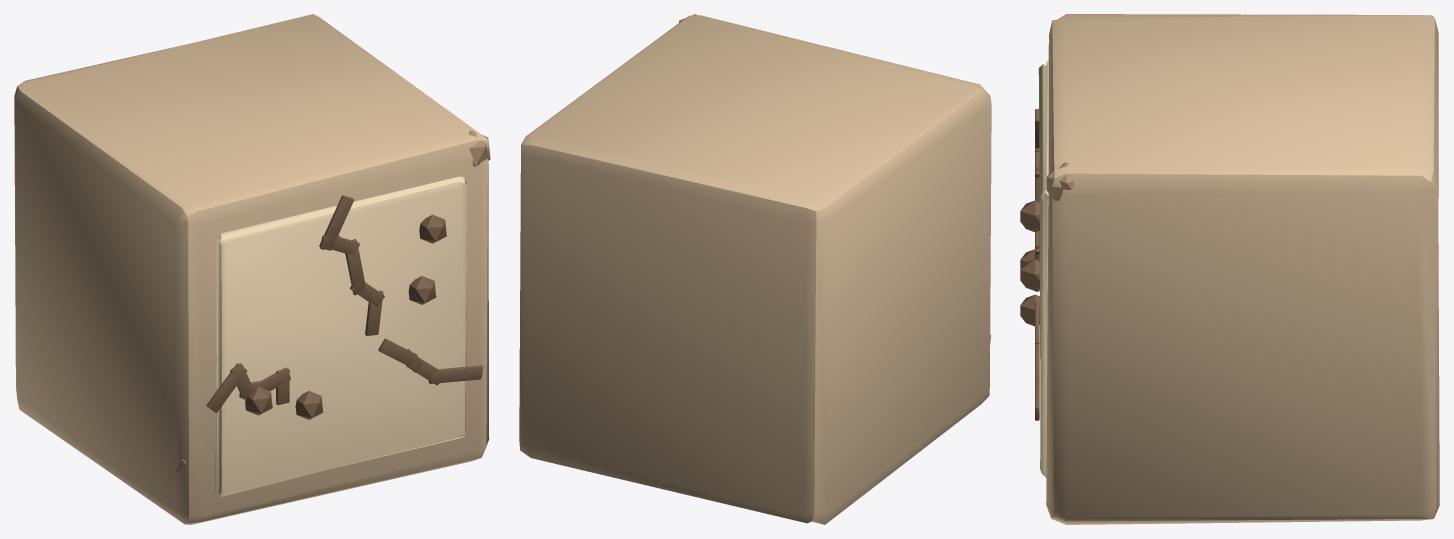
The model's file is breakable.glb.
3 renders of one model, left to right at view 1: azimuth 30°, elevation 25°; view 2: azimuth 150°, elevation 25°; view 3: azimuth 270°, elevation 25°, orthographic. The views are drawn at different scales.
Parts seen in each view (by area): view 1: breakable; view 2: breakable; view 3: breakable.
Part boxes in pixels (x1,y1,x2,y2): breakable: (14, 14, 490, 524); breakable: (519, 14, 991, 524); breakable: (1020, 14, 1439, 524).
Size of the model in its own units: 1.02 by 1.02 by 1.07.
